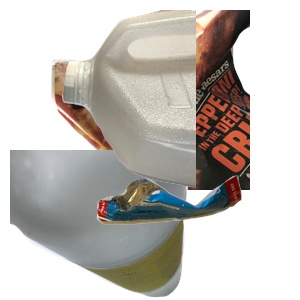glass: (10, 150, 190, 300)
paper: (49, 10, 289, 190)
plastic: (60, 10, 300, 190)
trash: (94, 173, 300, 300)
